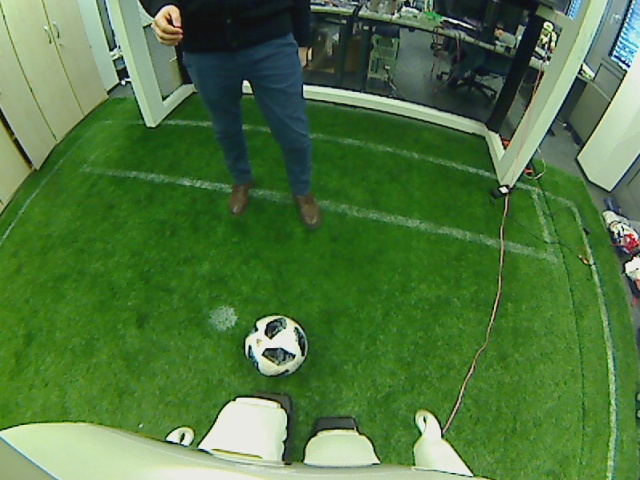ball: (241, 312, 309, 378)
